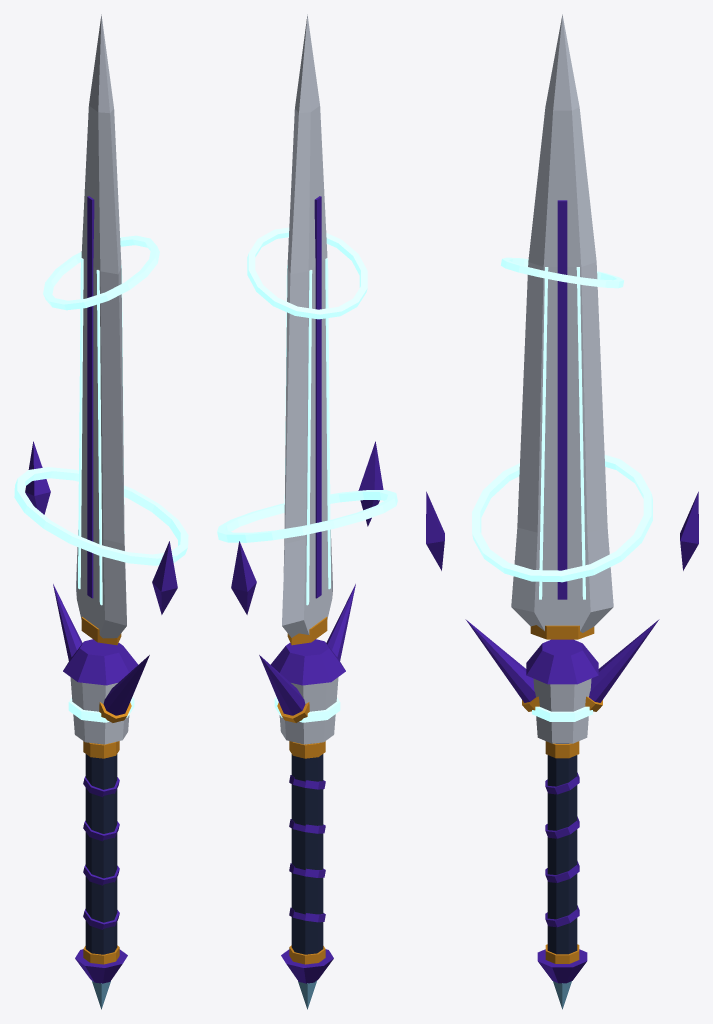
File: sky_citadel_weapons.fbx
3 views of the same model, side by side, from view 1: azimuth 30°, elevation 25°; view 2: azimuth 150°, elevation 25°; view 3: azimuth 270°, elevation 25° (orthographic).
Visible parts, largest first — view 1: wpn_sc_sword_epic_a; view 2: wpn_sc_sword_epic_a; view 3: wpn_sc_sword_epic_a.
Boxes of the visible parts, <box> form: wpn_sc_sword_epic_a: <box>14,14,188,1009</box>; wpn_sc_sword_epic_a: <box>217,14,397,1009</box>; wpn_sc_sword_epic_a: <box>426,14,698,1009</box>.
Bounding box in the file's own units: 0.7274 × 4.5 × 1.12.
